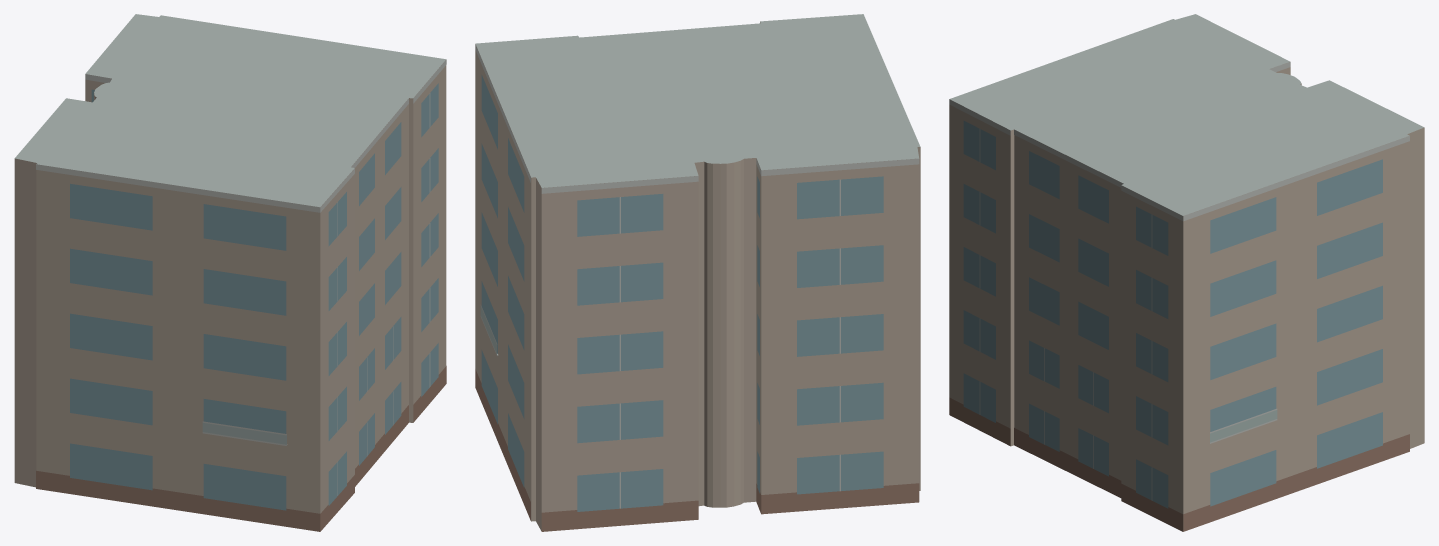
File: survey-upis-32832255.glb
The picture shows the model from 3 angles, left to right: view 1: azimuth 30°, elevation 25°; view 2: azimuth 150°, elevation 25°; view 3: azimuth 270°, elevation 25°; orthographic projection. The views are drawn at different scales.
Visible parts, largest first — view 1: survey-upis-32832255.tmp; view 2: survey-upis-32832255.tmp; view 3: survey-upis-32832255.tmp.
Boxes of the visible parts, box(x1,y1,x2,y2) form: survey-upis-32832255.tmp: box(14, 14, 446, 531); survey-upis-32832255.tmp: box(475, 14, 920, 531); survey-upis-32832255.tmp: box(949, 14, 1424, 531).
Bounding box in the file's own units: 19.48 × 14.2 × 19.37.
